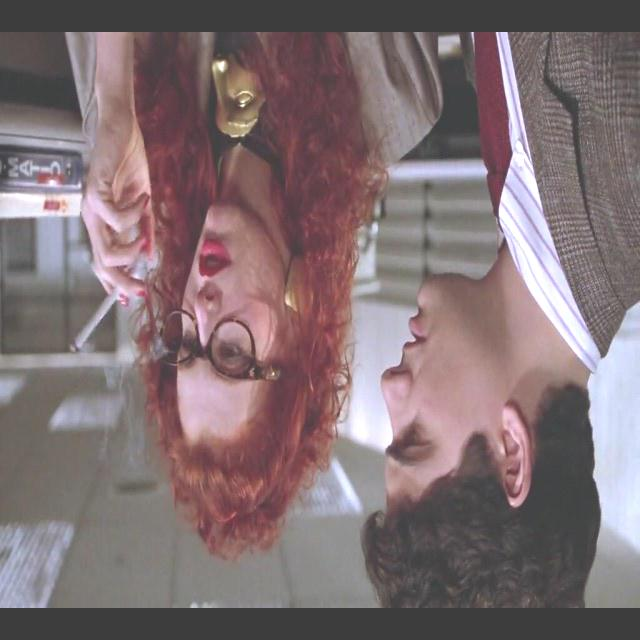smoke: (57, 258, 141, 360)
